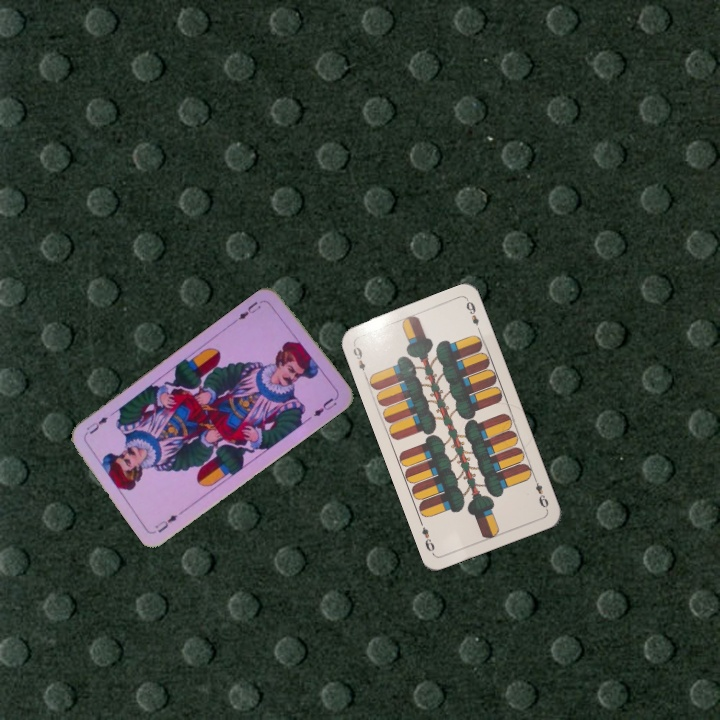E9: (530, 473, 551, 512), (349, 340, 369, 379)
EU: (232, 296, 268, 324), (151, 510, 180, 535)
